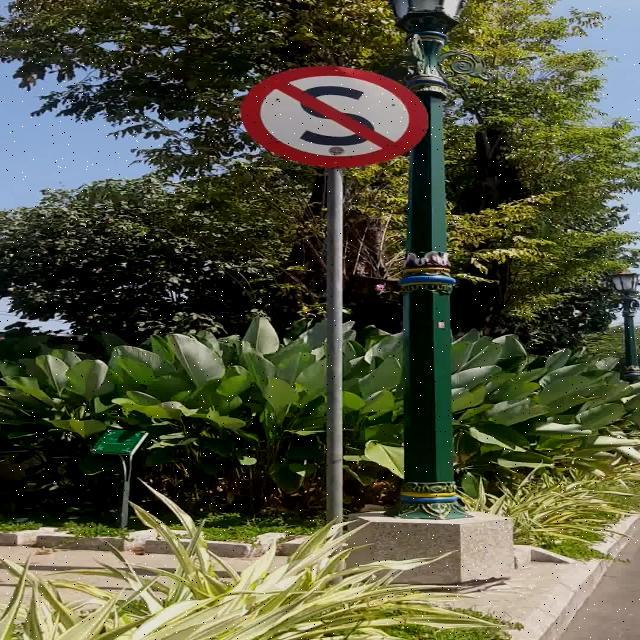Dilarang Berhenti: (240, 65, 430, 167)
